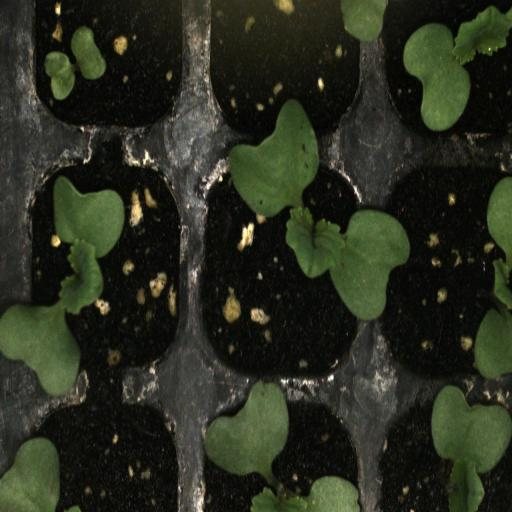seedling: (194, 141, 374, 390), (17, 139, 194, 391), (372, 142, 512, 398), (194, 392, 376, 512), (376, 0, 512, 144), (377, 396, 512, 512)
weak: (16, 0, 194, 138)
